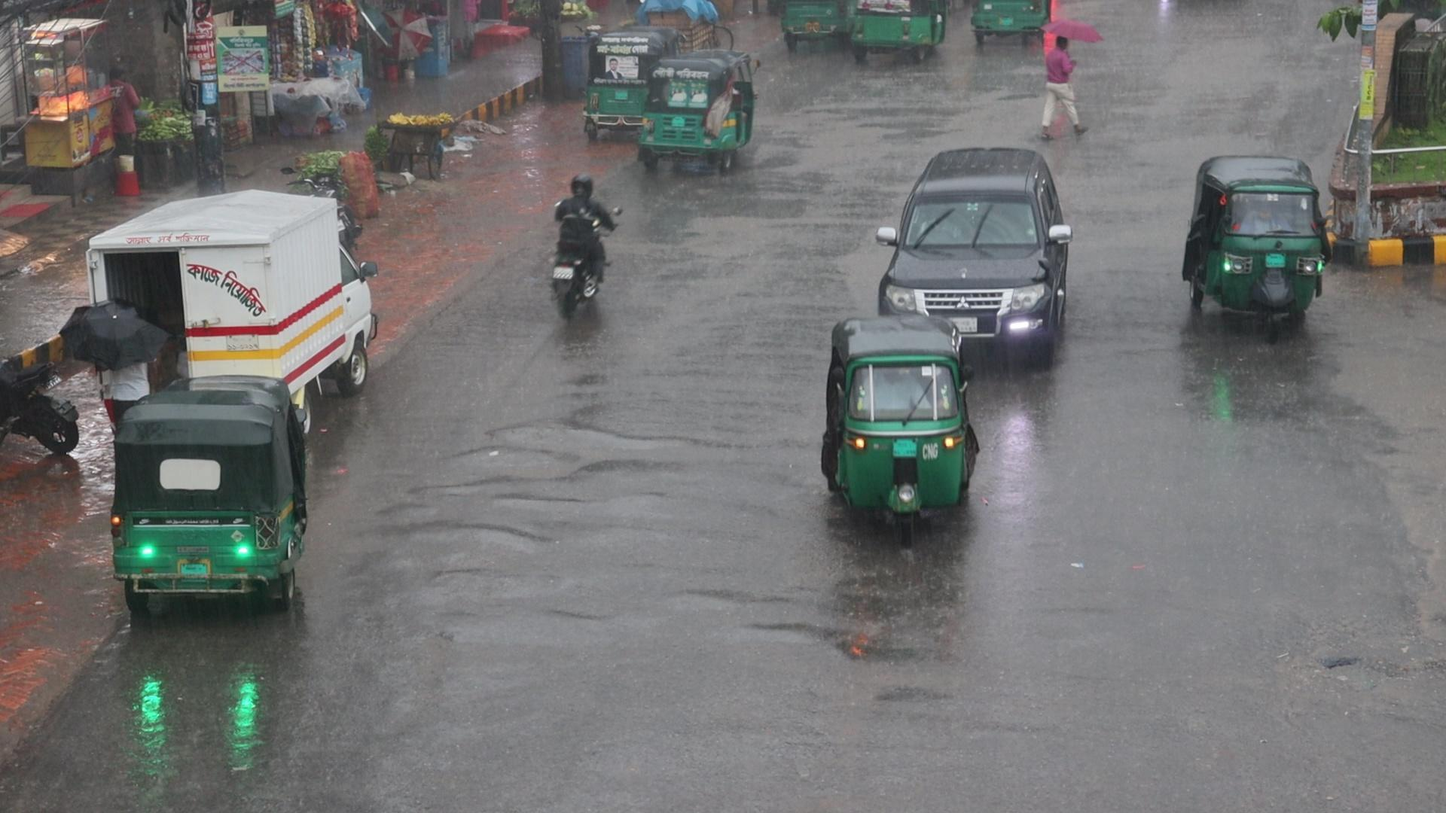Bike: (535, 169, 623, 326)
Car: (877, 143, 1073, 319)
